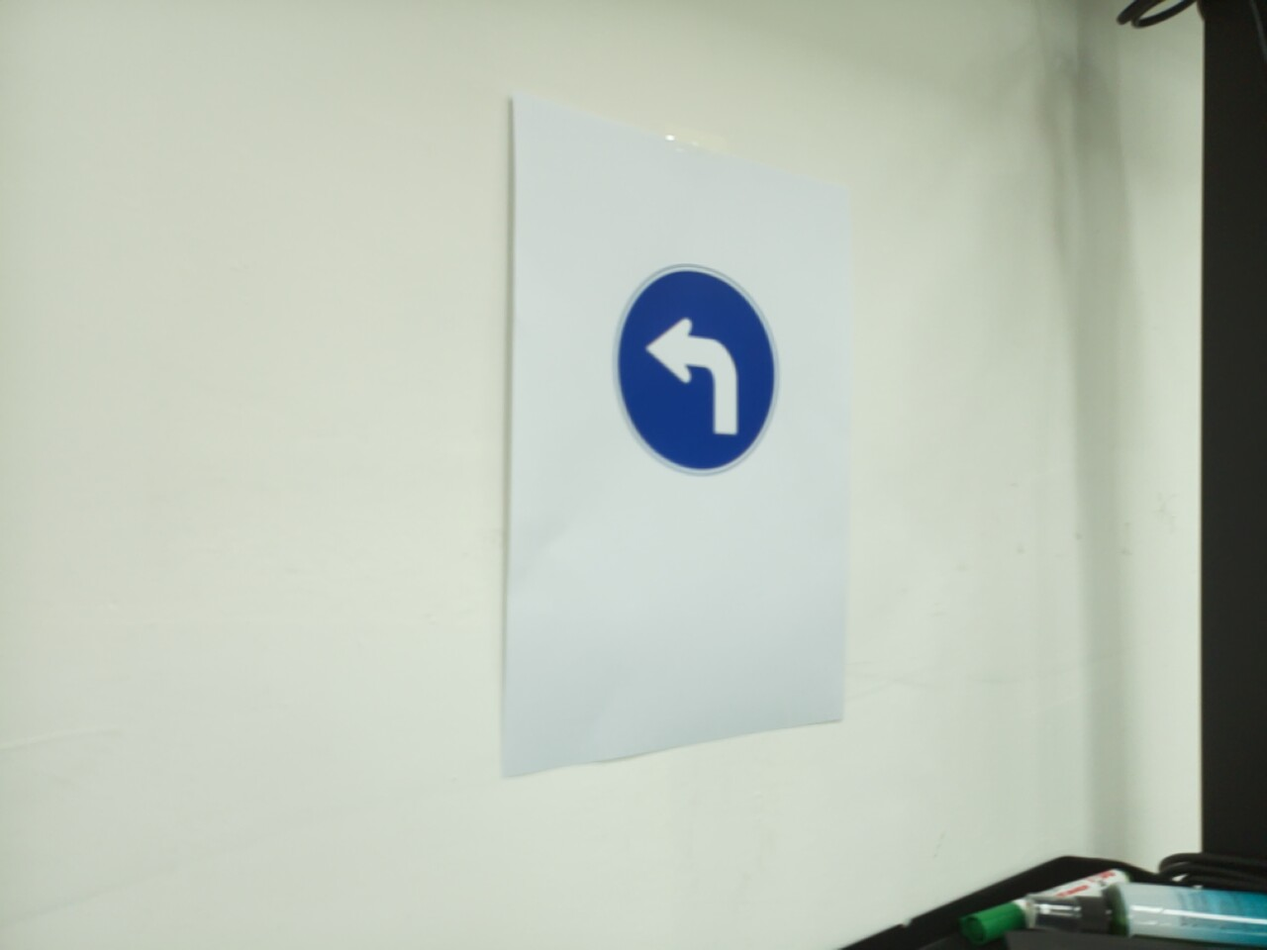left_turn: (611, 262, 781, 478)
